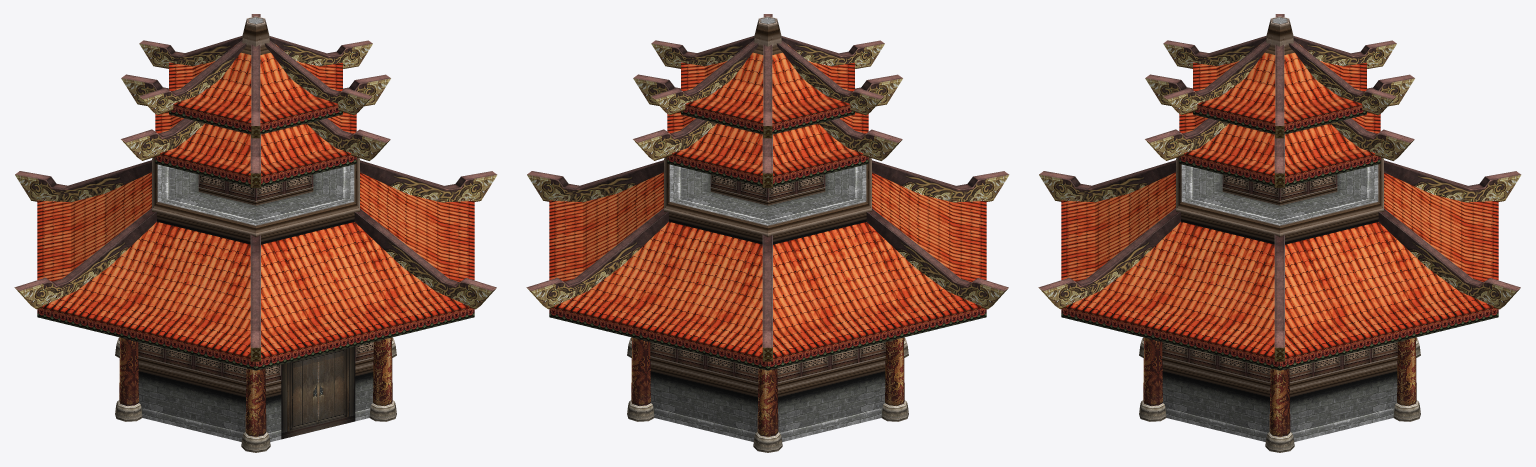
The model's file is SwordSpirit_Square_house03.FBX.
The picture shows the model from 3 angles, left to right: view 1: azimuth 30°, elevation 25°; view 2: azimuth 150°, elevation 25°; view 3: azimuth 270°, elevation 25°; orthographic projection.
Visible parts, largest first — view 1: Object452; view 2: Object452; view 3: Object452.
Boxes of the visible parts, bbox=[...] form: Object452: bbox=[14, 14, 497, 452]; Object452: bbox=[526, 14, 1009, 452]; Object452: bbox=[1038, 14, 1521, 452].
Bounding box in the file's own units: 1687 × 1228 × 1477.
6 materials, 6 textured.
